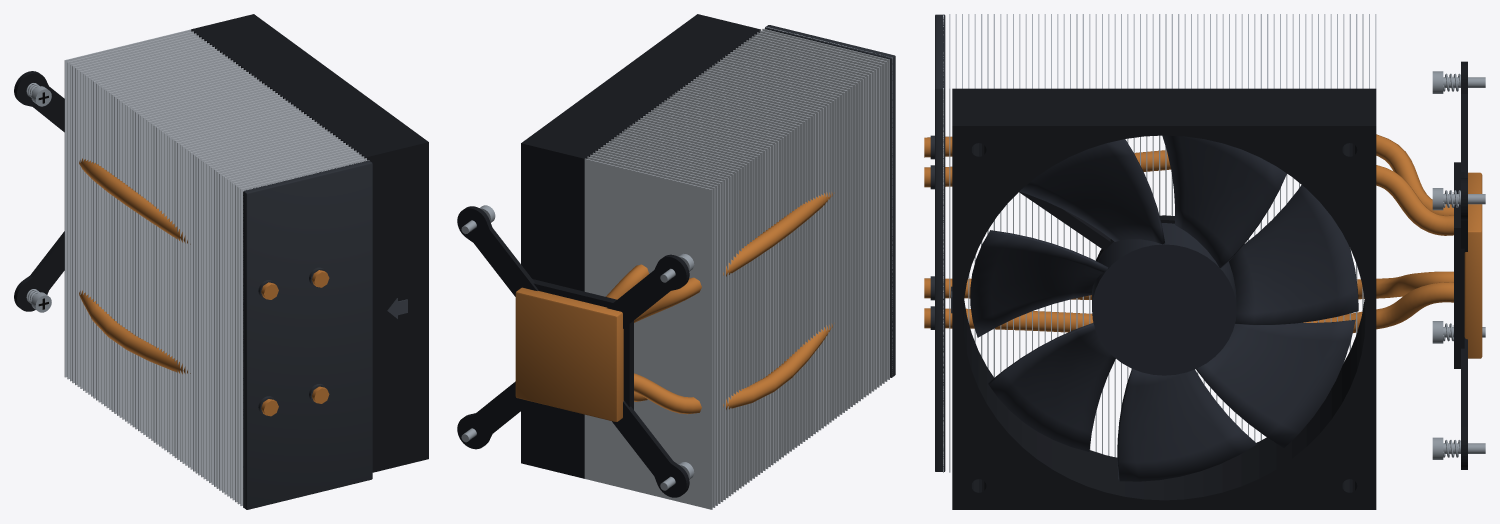
Rendered from f_tower_air_155.glb.
The picture shows the model from 3 angles, left to right: view 1: azimuth 30°, elevation 25°; view 2: azimuth 150°, elevation 25°; view 3: azimuth 270°, elevation 25°; orthographic projection. The views are drawn at different scales.
Visible parts, largest first — view 1: part_cooler; view 2: part_cooler; view 3: part_cooler, cooler_fan.
Boxes of the visible parts, x1,y1,x2,y2 form: part_cooler: (14,14,428,509); part_cooler: (457,14,895,509); part_cooler: (924,14,1485,509); cooler_fan: (970,135,1358,481).
Size of the model in its own units: 0.8995 by 1.2 by 1.59.
